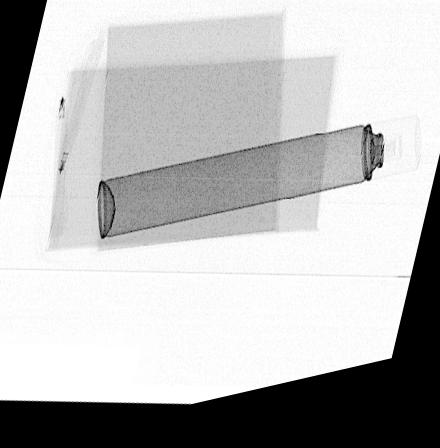Sprayer: (96, 137, 420, 244)
